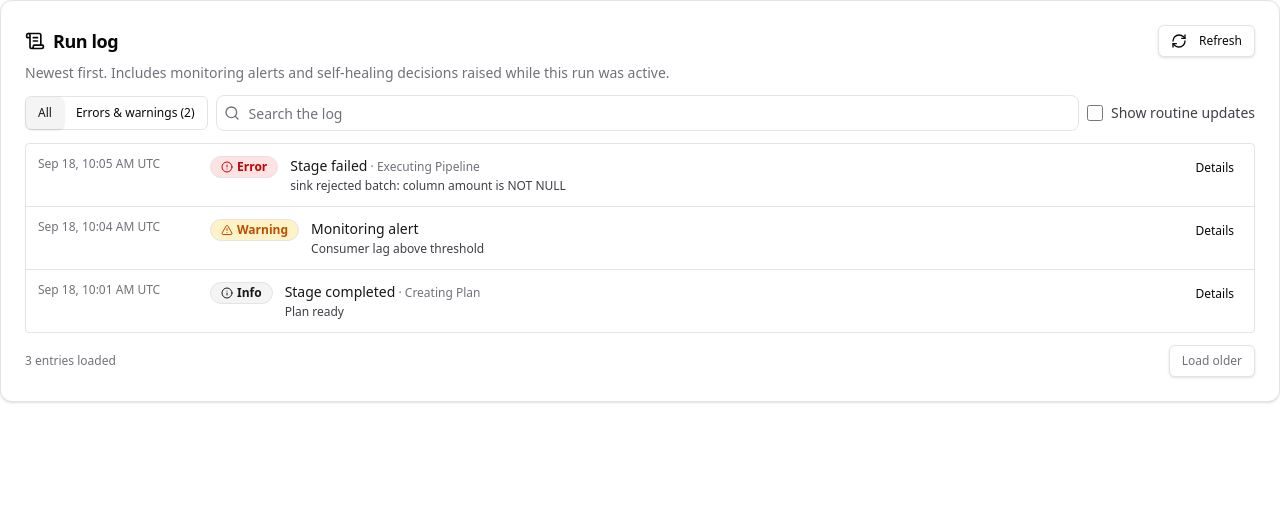
RunLogPanel › shows the raw payload behind Details
Click the button "Details" in the row of "Consumer lag above threshold" at (1215, 231), box [1188,219,1242,243]
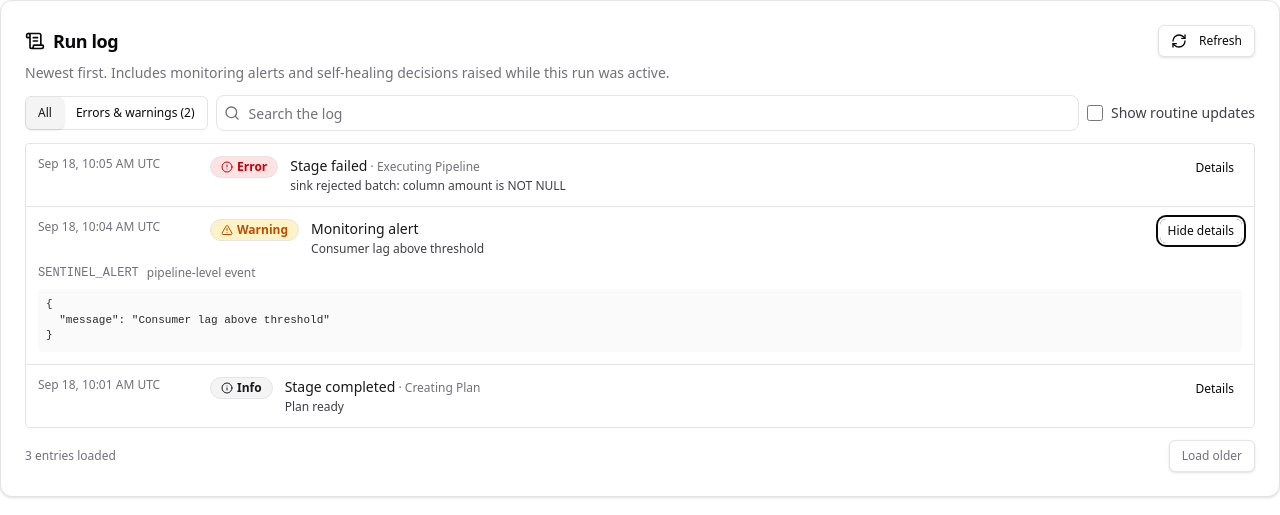
Expected: the text "SENTINEL_ALERT" is shown, [38,265,139,281]
Expected: the text "pipeline-level event" is shown, [147,265,256,281]
Expected: the text "{ \"message\": \"Consumer lag above threshold\" }" is shown, [38,289,1242,352]
